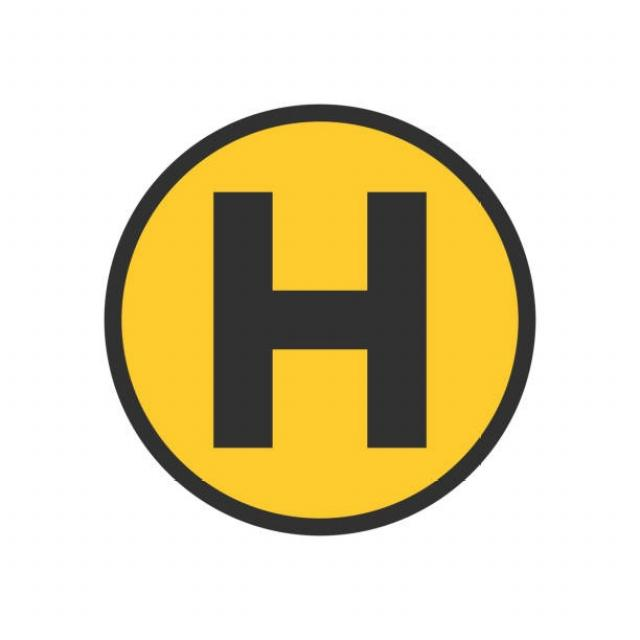helipad: (93, 94, 544, 540)
